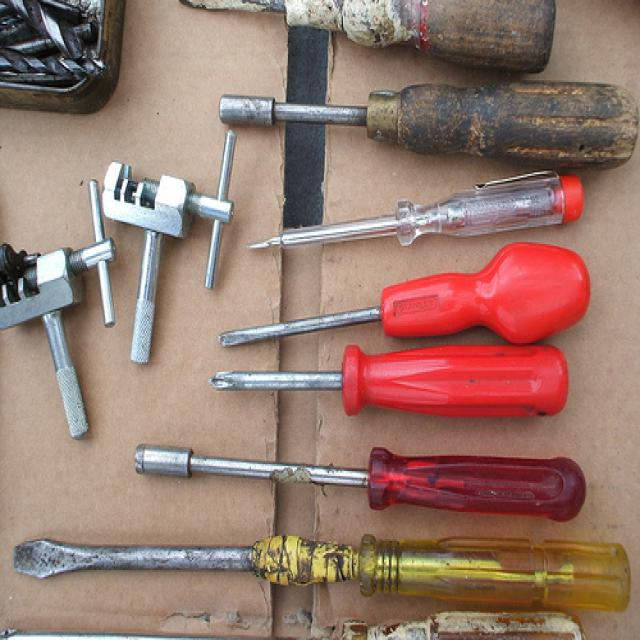screw driver: (239, 147, 640, 276), (194, 328, 640, 425)
